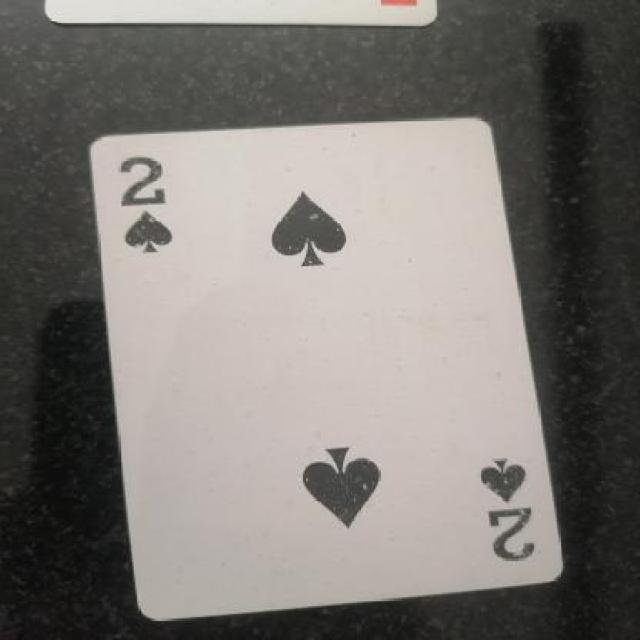2S: (451, 452, 552, 574), (110, 152, 196, 262)
